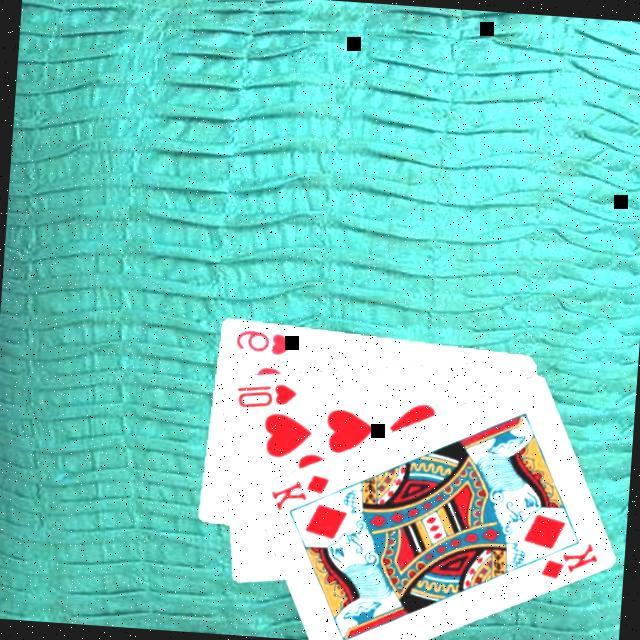10H: (231, 378, 299, 415)
6H: (230, 326, 296, 359)
KD: (265, 469, 332, 519), (534, 538, 601, 586)
